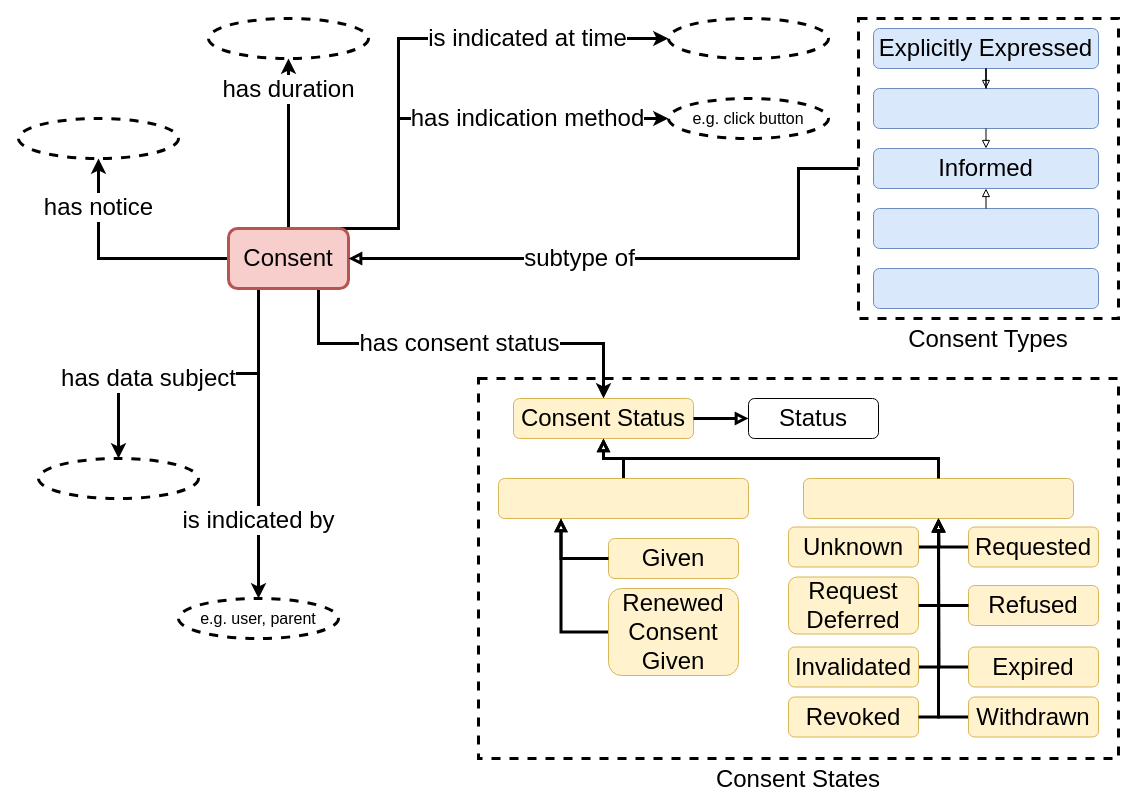
The diagram is 1137 pixels wide and 812 high, and some of its shapes have lost their labels. Here are the shapes that lost their labels. From the top down, the centre of each, then its label:
At point (288, 38): "e.g. 6 months".
At point (748, 38): "e.g. 2022-12-01".
At point (985, 108): "Expressed".
At point (98, 138): "notice".
At point (985, 228): "Implied".
At point (985, 288): "Uninformed".
At point (118, 478): "e.g. id#xyz".
At point (623, 498): "Valid for Processing".
At point (938, 498): "Invalid for Processing".
